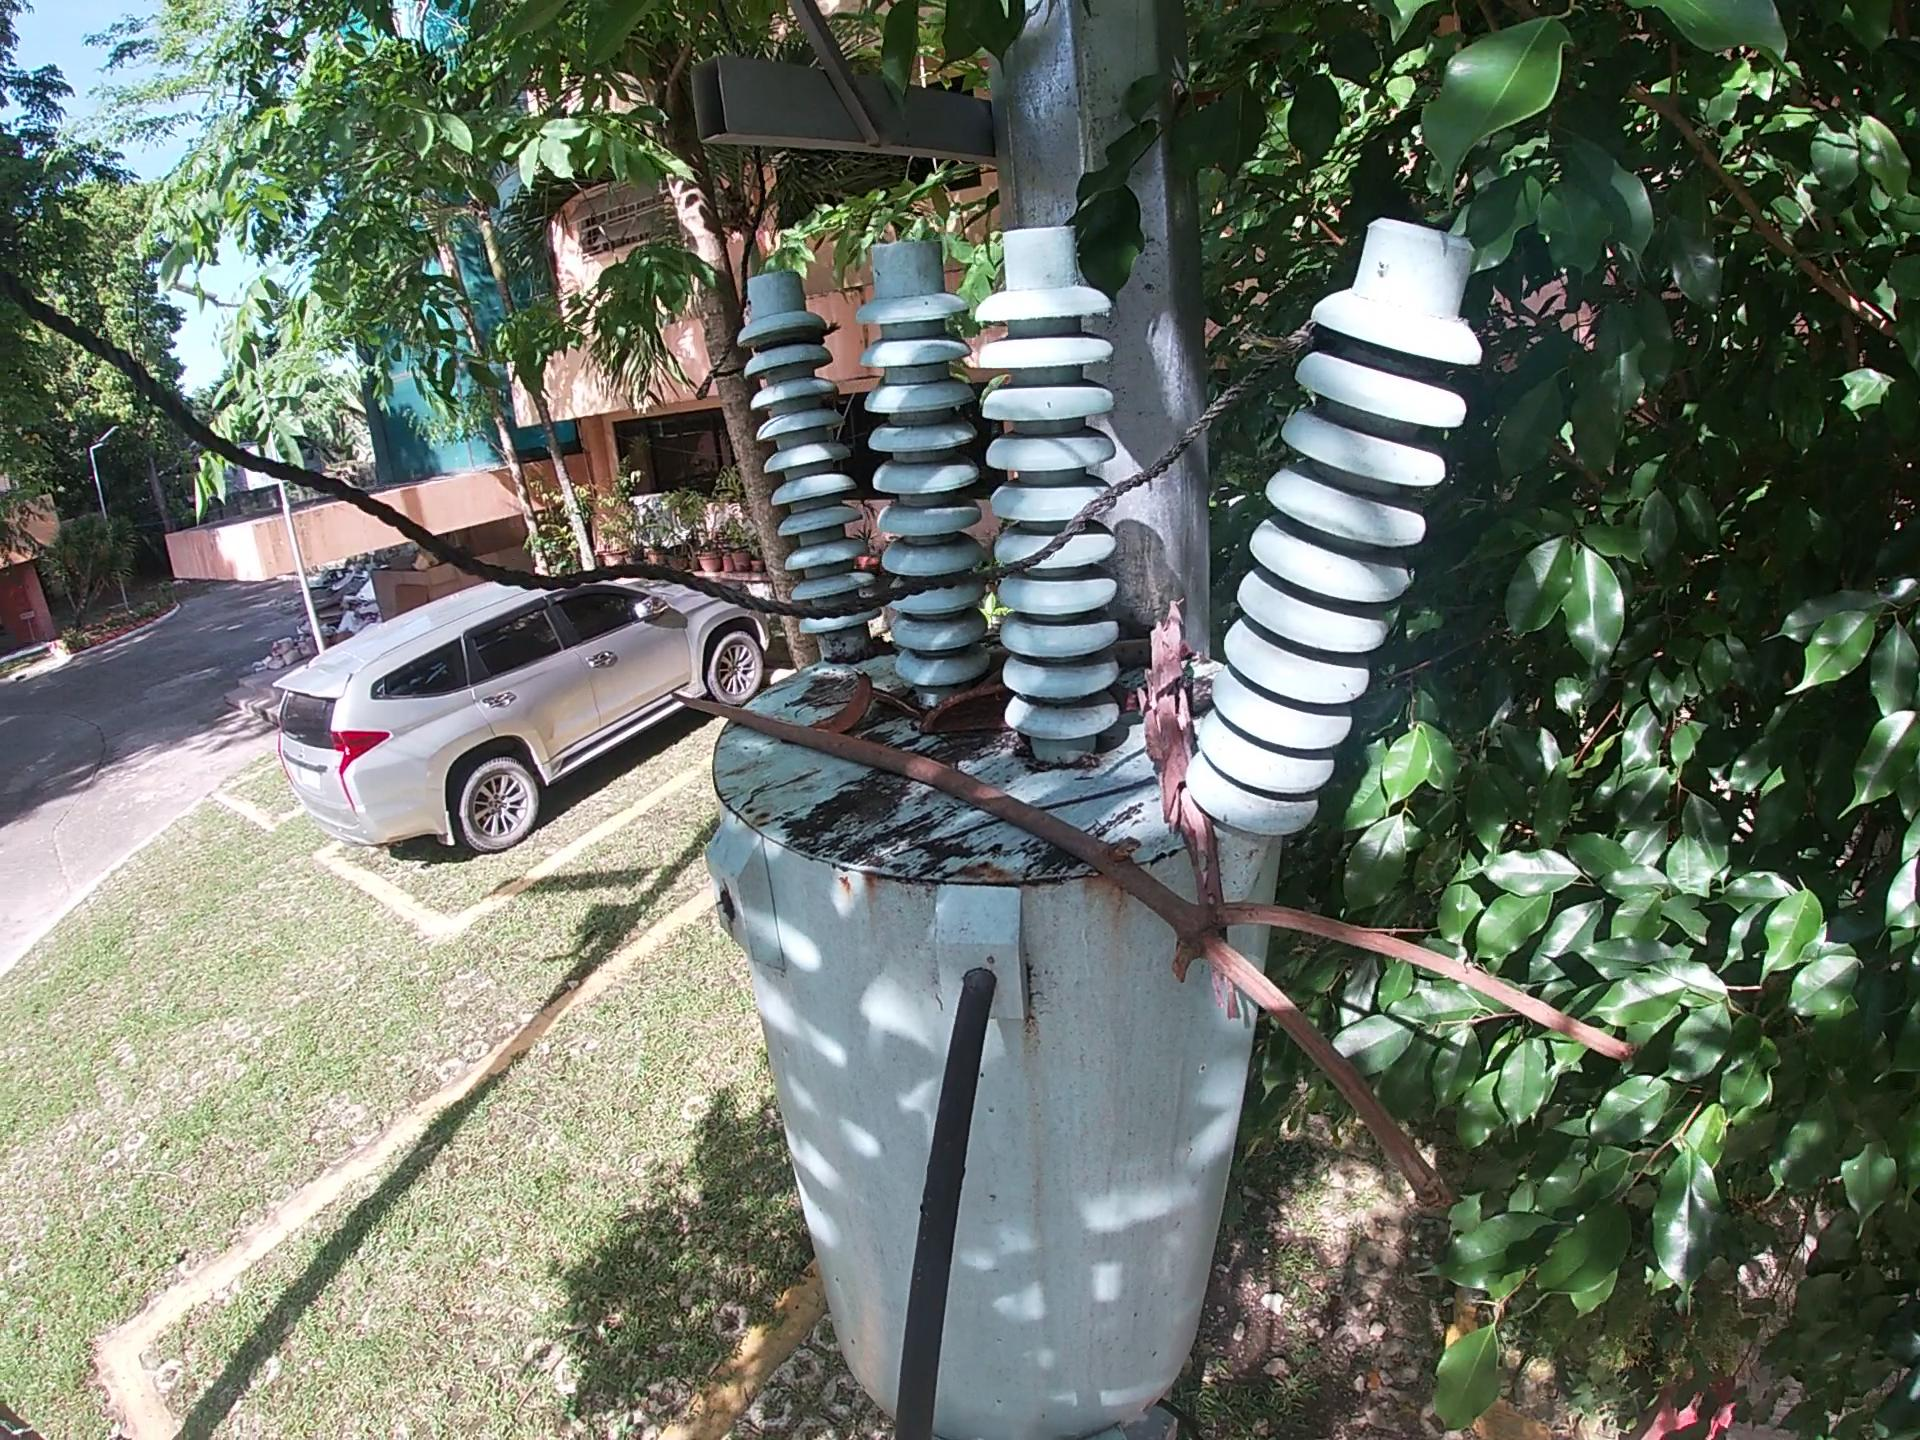mahogany fruit: (910, 691, 1011, 756), (818, 675, 875, 732)
tree branch: (677, 691, 1634, 1230), (1149, 588, 1234, 973), (865, 774, 1160, 871), (866, 688, 912, 722), (1108, 641, 1155, 664)
